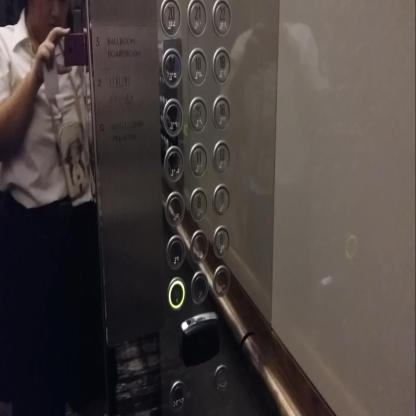11: (188, 141, 209, 179)
12: (212, 138, 230, 175)
15: (187, 93, 208, 134)
16: (211, 93, 232, 132)
17: (161, 47, 182, 87)
18: (187, 46, 208, 86)
19: (211, 46, 232, 86)
20: (159, 0, 181, 37)
21: (186, 0, 208, 37)
22: (210, 0, 231, 36)
5: (189, 229, 208, 265)
6: (212, 224, 230, 257)
8: (188, 186, 207, 221)
9: (212, 182, 230, 218)
G: (167, 275, 186, 309)
blur: (162, 97, 183, 137), (164, 144, 184, 182), (165, 190, 184, 226), (166, 234, 185, 270), (190, 269, 209, 304), (168, 378, 187, 412), (212, 264, 230, 298), (212, 363, 230, 392)
